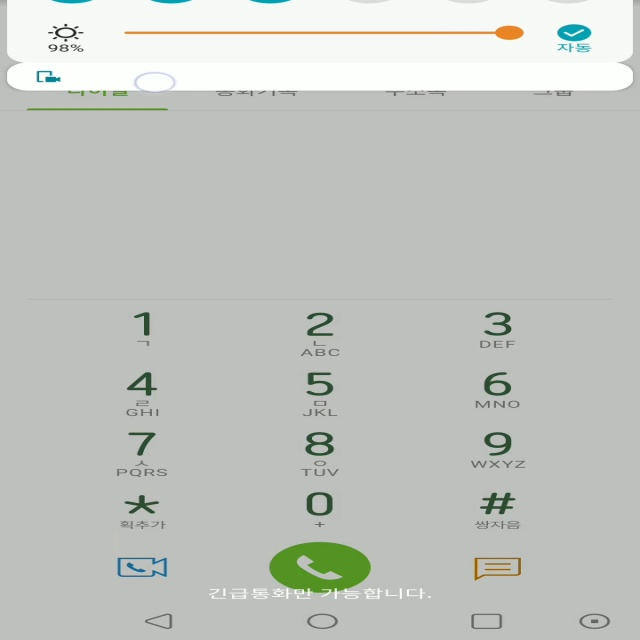Cursor: (132, 72, 176, 94)
